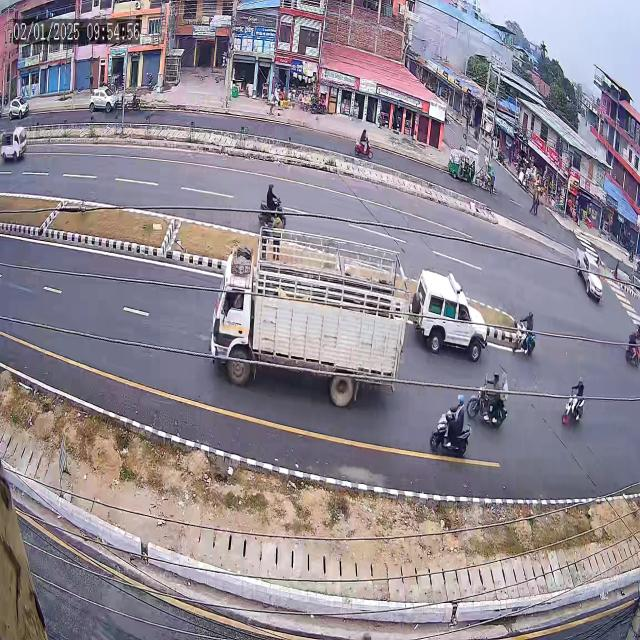car: (411, 259, 498, 367), (574, 241, 603, 310)
motorcycle: (425, 383, 473, 471), (463, 360, 520, 428), (510, 291, 546, 364), (555, 368, 590, 438), (255, 177, 291, 233), (614, 311, 640, 376), (354, 121, 376, 168)
truck: (207, 219, 408, 437)
van: (0, 120, 36, 168)
